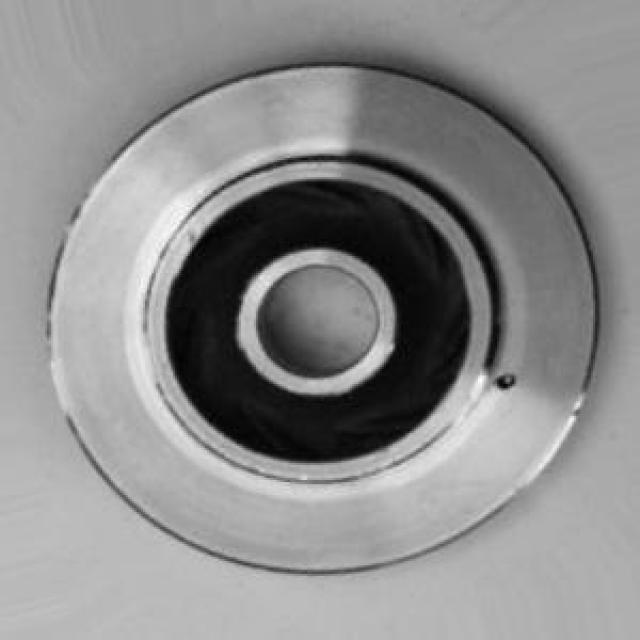Defect: (493, 367, 517, 397)
